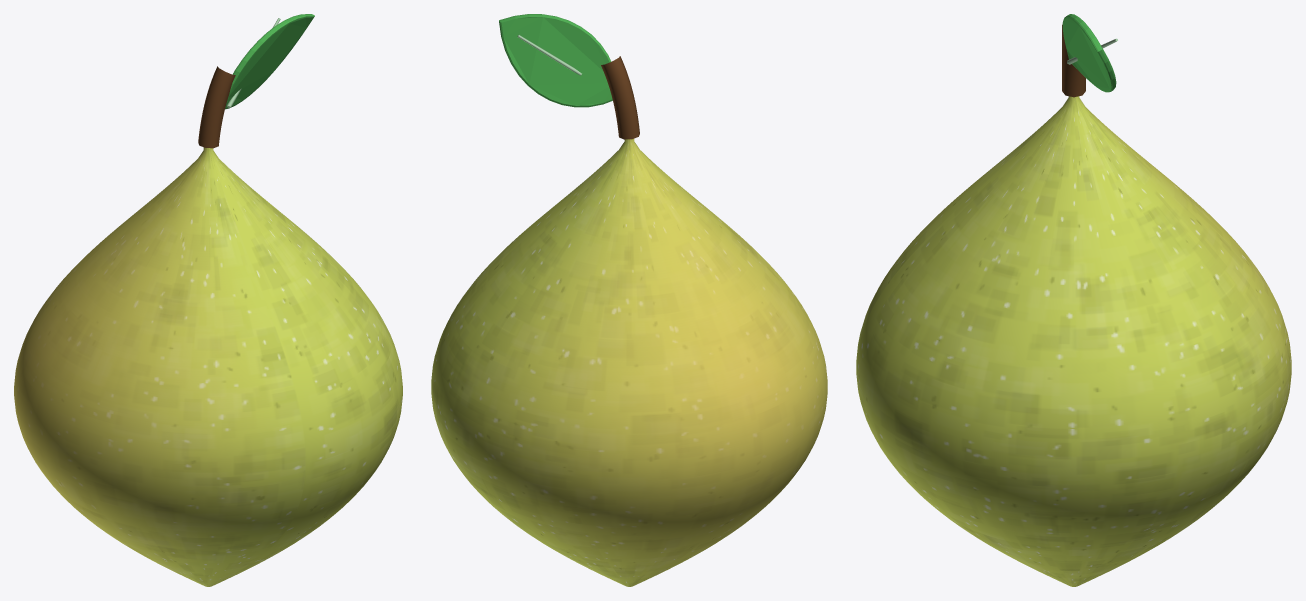
Rendered from pear.glb.
3 views of the same model, side by side, from view 1: azimuth 30°, elevation 25°; view 2: azimuth 150°, elevation 25°; view 3: azimuth 270°, elevation 25° (orthographic). The views are drawn at different scales.
Bounding box in the file's own units: 0.1051 × 0.1616 × 0.1051.
4 materials, 1 textured.
